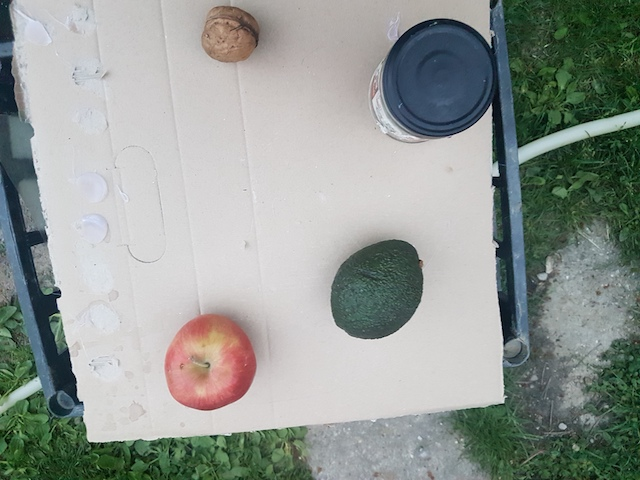apple: (163, 309, 257, 412)
avocado: (330, 240, 424, 341)
nut: (200, 4, 262, 64)
recipient: (381, 18, 495, 140)
